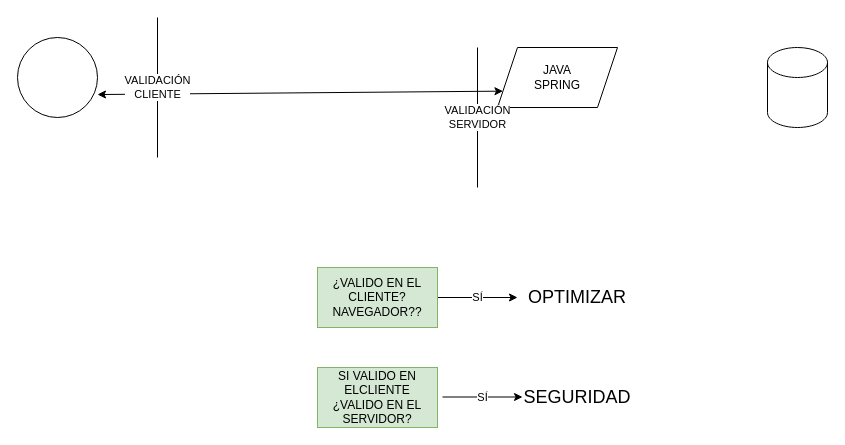
The diagram is 845 pixels wide and 445 high, and some of its shapes have lost their labels. Here are the shapes that lost their labels. From the top down, the centre of each, then its label:
At (57,77): "CLIENTE NAVEGADOR ANGULAR".
At (797,87): "BASE DATOS".
